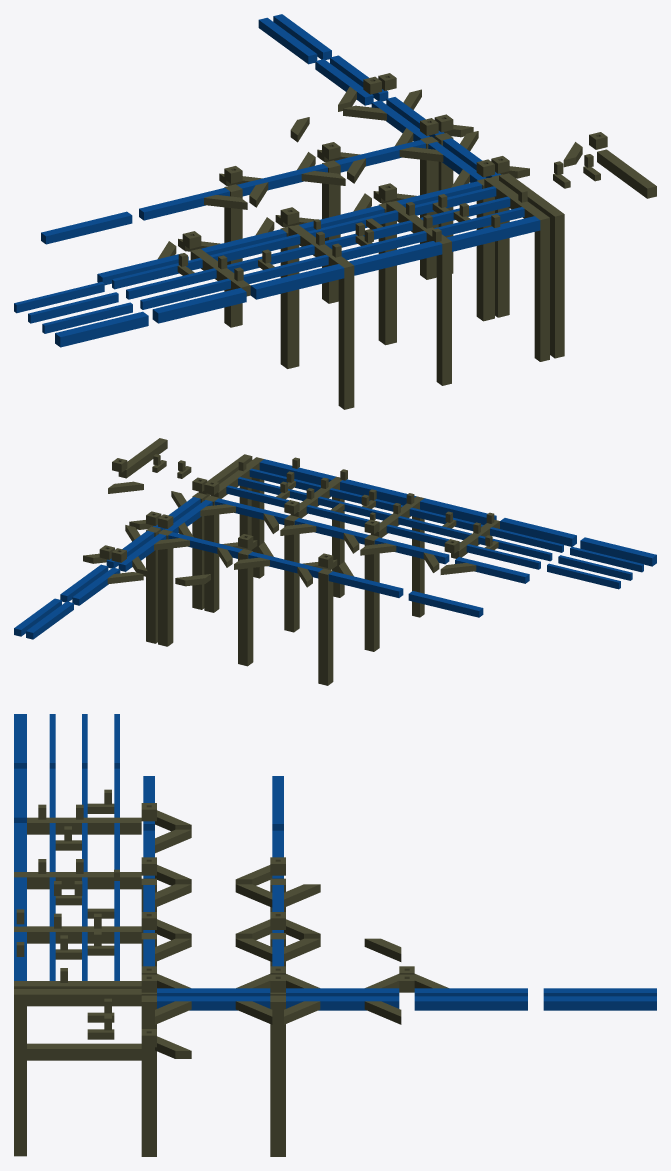
The model's file is GCC-AAV-13220-30(5).fbx.
The picture shows the model from 3 angles, top to bottom: view 1: azimuth 30°, elevation 25°; view 2: azimuth 150°, elevation 25°; view 3: azimuth 270°, elevation 25°; orthographic projection. The views are drawn at different scales.
Visible parts, largest first — view 1: POHEDRON 1 of TMPLATE 1 of FIXING 1 of PLDATUM 1 of JLDATUM  (×8), PANEL 1 of SBFRAMEWORK /13220-ST-001/CI/KJ2/K/K_172, PANEL 1 of SBFRAMEWORK /13220-ST-001/CI/KJ2/K/K_100, PANEL 1 of SBFRAMEWORK /13220-ST-001/CI/KJ2/K/K_236, PANEL 1 of SBFRAMEWORK /13220-ST-001/CI/KJ2/K/K_316, PANEL 1 of SBFRAMEWORK /13220-ST-001/CI/KJ2/K/K_004, PANEL 1 of SBFRAMEWORK /13220-ST-001/CI/KJ2/K/K_330, PANEL 1 of SBFRAMEWORK /13220-ST-001/CI/KJ2/K/K_309, PANEL 1 of SBFRAMEWORK /13220-ST-001/CI/KJ2/K/K_118, PANEL 1 of SBFRAMEWORK /13220-ST-001/CI/KJ2/K/K_147, PANEL 1 of SBFRAMEWORK /13220-ST-001/CI/KJ2/K/K_292, PANEL 1 of SBFRAMEWORK /13220-ST-001/CI/KJ2/K/K_325 (+7 smaller); view 2: POHEDRON 1 of TMPLATE 1 of FIXING 1 of PLDATUM 1 of JLDATUM  (×8), PANEL 1 of SBFRAMEWORK /13220-ST-001/CI/KJ2/K/K_118, PANEL 1 of SBFRAMEWORK /13220-ST-001/CI/KJ2/K/K_292, PANEL 1 of SBFRAMEWORK /13220-ST-001/CI/KJ2/K/K_325, PANEL 1 of SBFRAMEWORK /13220-ST-001/CI/KJ2/K/K_004, PANEL 1 of SBFRAMEWORK /13220-ST-001/CI/KJ2/K/K_309, PANEL 1 of SBFRAMEWORK /13220-ST-001/CI/KJ2/K/K_330, PANEL 1 of SBFRAMEWORK /13220-ST-001/CI/KJ2/K/K_125, PANEL 1 of SBFRAMEWORK /13220-ST-001/CI/KJ2/K/K_147, PANEL 1 of SBFRAMEWORK /13220-ST-001/CI/KJ2/K/K_172, PANEL 1 of SBFRAMEWORK /13220-ST-001/CI/KJ2/K/K_100, PANEL 1 of SBFRAMEWORK /13220-ST-001/CI/KJ2/B/B_070 (+6 smaller); view 3: POHEDRON 1 of TMPLATE 1 of FIXING 1 of PLDATUM 1 of JLDATUM  (×8), PANEL 1 of SBFRAMEWORK /13220-ST-001/CI/KJ2/K/K_125, PANEL 1 of SBFRAMEWORK /13220-ST-001/CI/KJ2/K/K_147, PANEL 1 of SBFRAMEWORK /13220-ST-001/CI/KJ2/K/K_316, PANEL 1 of SBFRAMEWORK /13220-ST-001/CI/KJ2/B/B_070, PANEL 1 of SBFRAMEWORK /13220-ST-001/CI/KJ2/B/B_250, PANEL 1 of SBFRAMEWORK /13220-ST-001/CI/KJ2/B/B_339, PANEL 1 of SBFRAMEWORK /13220-ST-001/CI/KJ2/B/B_119, PANEL 1 of SBFRAMEWORK /13220-ST-001/CI/KJ2/B/B_254, PANEL 1 of SBFRAMEWORK /13220-ST-001/CI/KJ2/B/B_312.
Boxes of the visible parts, box(x1,y1,x2,y2) form: POHEDRON 1 of TMPLATE 1 of FIXING 1 of PLDATUM 1 of JLDATUM  (×8): box(14, 14, 540, 347); PANEL 1 of SBFRAMEWORK /13220-ST-001/CI/KJ2/K/K_172: box(338, 261, 354, 409); PANEL 1 of SBFRAMEWORK /13220-ST-001/CI/KJ2/K/K_100: box(534, 213, 549, 361); PANEL 1 of SBFRAMEWORK /13220-ST-001/CI/KJ2/K/K_236: box(436, 237, 451, 385); PANEL 1 of SBFRAMEWORK /13220-ST-001/CI/KJ2/K/K_316: box(549, 210, 564, 358); PANEL 1 of SBFRAMEWORK /13220-ST-001/CI/KJ2/K/K_004: box(280, 225, 299, 368); PANEL 1 of SBFRAMEWORK /13220-ST-001/CI/KJ2/K/K_330: box(476, 178, 494, 321); PANEL 1 of SBFRAMEWORK /13220-ST-001/CI/KJ2/K/K_309: box(378, 201, 396, 345); PANEL 1 of SBFRAMEWORK /13220-ST-001/CI/KJ2/K/K_118: box(224, 184, 242, 327); PANEL 1 of SBFRAMEWORK /13220-ST-001/CI/KJ2/K/K_147: box(491, 174, 509, 317); PANEL 1 of SBFRAMEWORK /13220-ST-001/CI/KJ2/K/K_292: box(322, 160, 340, 303); PANEL 1 of SBFRAMEWORK /13220-ST-001/CI/KJ2/K/K_325: box(420, 136, 438, 279); POHEDRON 1 of TMPLATE 1 of FIXING 1 of PLDATUM 1 of JLDATUM  (×8): box(14, 459, 656, 639); PANEL 1 of SBFRAMEWORK /13220-ST-001/CI/KJ2/K/K_118: box(318, 568, 333, 685); PANEL 1 of SBFRAMEWORK /13220-ST-001/CI/KJ2/K/K_292: box(238, 549, 253, 666); PANEL 1 of SBFRAMEWORK /13220-ST-001/CI/KJ2/K/K_325: box(158, 529, 173, 646); PANEL 1 of SBFRAMEWORK /13220-ST-001/CI/KJ2/K/K_004: box(364, 534, 379, 651); PANEL 1 of SBFRAMEWORK /13220-ST-001/CI/KJ2/K/K_309: box(284, 515, 299, 632); PANEL 1 of SBFRAMEWORK /13220-ST-001/CI/KJ2/K/K_330: box(204, 495, 219, 612); PANEL 1 of SBFRAMEWORK /13220-ST-001/CI/KJ2/K/K_125: box(146, 526, 161, 643); PANEL 1 of SBFRAMEWORK /13220-ST-001/CI/KJ2/K/K_147: box(192, 492, 207, 609); PANEL 1 of SBFRAMEWORK /13220-ST-001/CI/KJ2/K/K_172: box(412, 496, 424, 617); PANEL 1 of SBFRAMEWORK /13220-ST-001/CI/KJ2/K/K_100: box(251, 457, 264, 578); PANEL 1 of SBFRAMEWORK /13220-ST-001/CI/KJ2/B/B_070: box(118, 438, 167, 478); POHEDRON 1 of TMPLATE 1 of FIXING 1 of PLDATUM 1 of JLDATUM  (×8): box(14, 714, 656, 1010); PANEL 1 of SBFRAMEWORK /13220-ST-001/CI/KJ2/K/K_125: box(270, 995, 285, 1156); PANEL 1 of SBFRAMEWORK /13220-ST-001/CI/KJ2/K/K_147: box(141, 995, 156, 1156); PANEL 1 of SBFRAMEWORK /13220-ST-001/CI/KJ2/K/K_316: box(14, 989, 26, 1156); PANEL 1 of SBFRAMEWORK /13220-ST-001/CI/KJ2/B/B_070: box(27, 1043, 141, 1060); PANEL 1 of SBFRAMEWORK /13220-ST-001/CI/KJ2/B/B_250: box(27, 989, 141, 1006); PANEL 1 of SBFRAMEWORK /13220-ST-001/CI/KJ2/B/B_339: box(27, 817, 141, 834); PANEL 1 of SBFRAMEWORK /13220-ST-001/CI/KJ2/B/B_119: box(27, 926, 141, 943); PANEL 1 of SBFRAMEWORK /13220-ST-001/CI/KJ2/B/B_254: box(27, 872, 141, 889); PANEL 1 of SBFRAMEWORK /13220-ST-001/CI/KJ2/B/B_312: box(27, 981, 141, 988).
Size of the model in its own units: 2425 by 593 by 1965.
